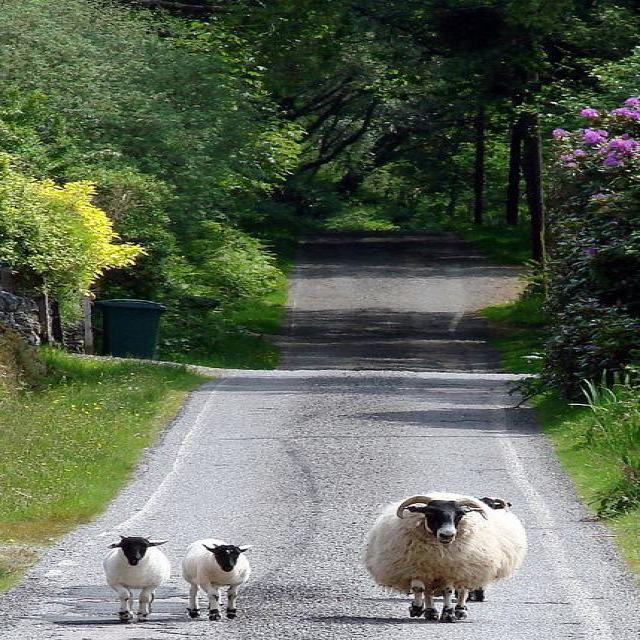Sheep: (366, 492, 530, 623), (99, 536, 174, 621), (182, 539, 255, 622)
